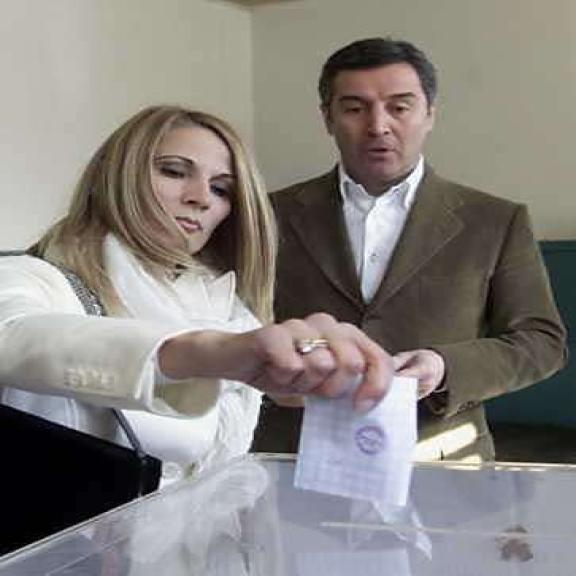face: (318, 64, 439, 182), (139, 118, 237, 261)
